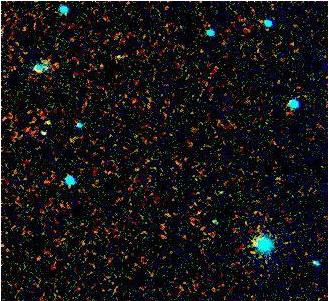star: (36, 105, 66, 135)
